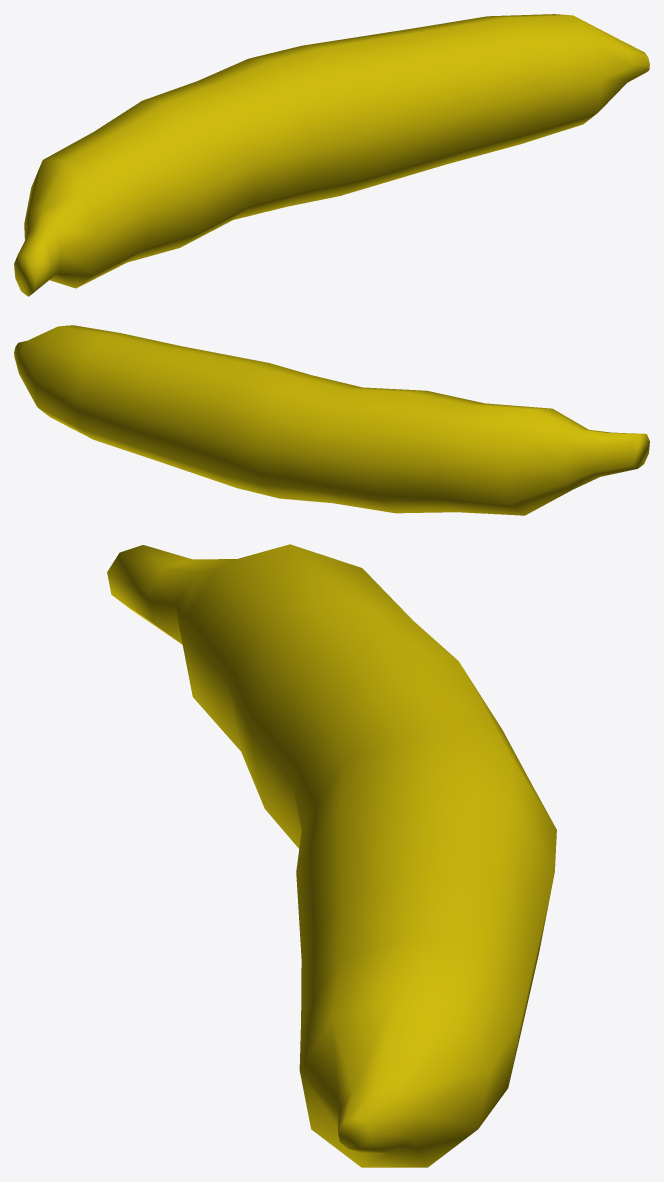
Rendered from Banana.fbx.
3 views of the same model, one above another, from view 1: azimuth 30°, elevation 25°; view 2: azimuth 150°, elevation 25°; view 3: azimuth 270°, elevation 25° (orthographic). The views are drawn at different scales.
Visible parts, largest first — view 1: Banana; view 2: Banana; view 3: Banana.
Part boxes in pixels (box(x1,y1,x2,y2)): Banana: box(14, 14, 649, 296); Banana: box(14, 325, 649, 515); Banana: box(107, 544, 556, 1167).
Size of the model in its own units: 4.59 by 0.8889 by 1.57.
